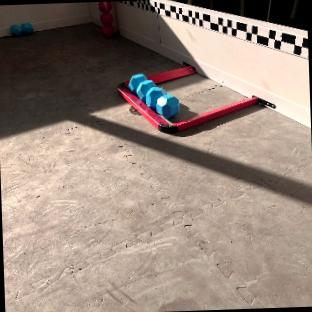V5_BLUE: (128, 74, 179, 118), (21, 22, 32, 34)
